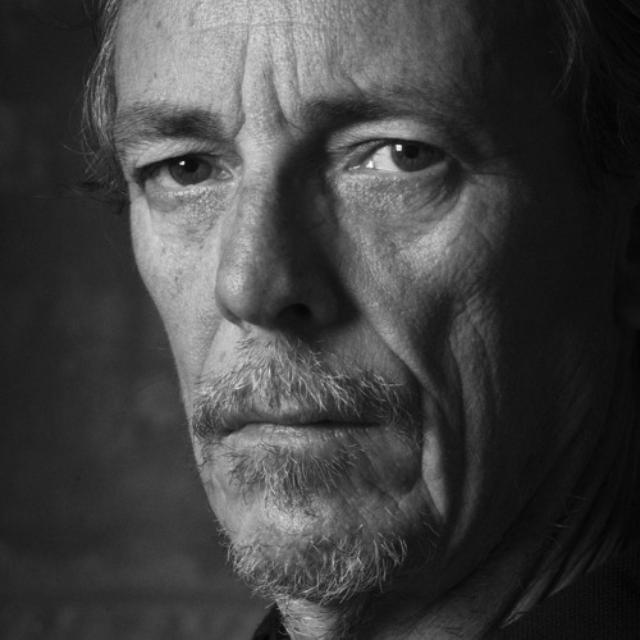forehead: (220, 13, 312, 42)
frown_line: (226, 82, 252, 144), (270, 89, 294, 133)
gummy_smile: (366, 310, 412, 374)
masseter: (443, 358, 477, 424)
sad_smile: (402, 408, 440, 474)
